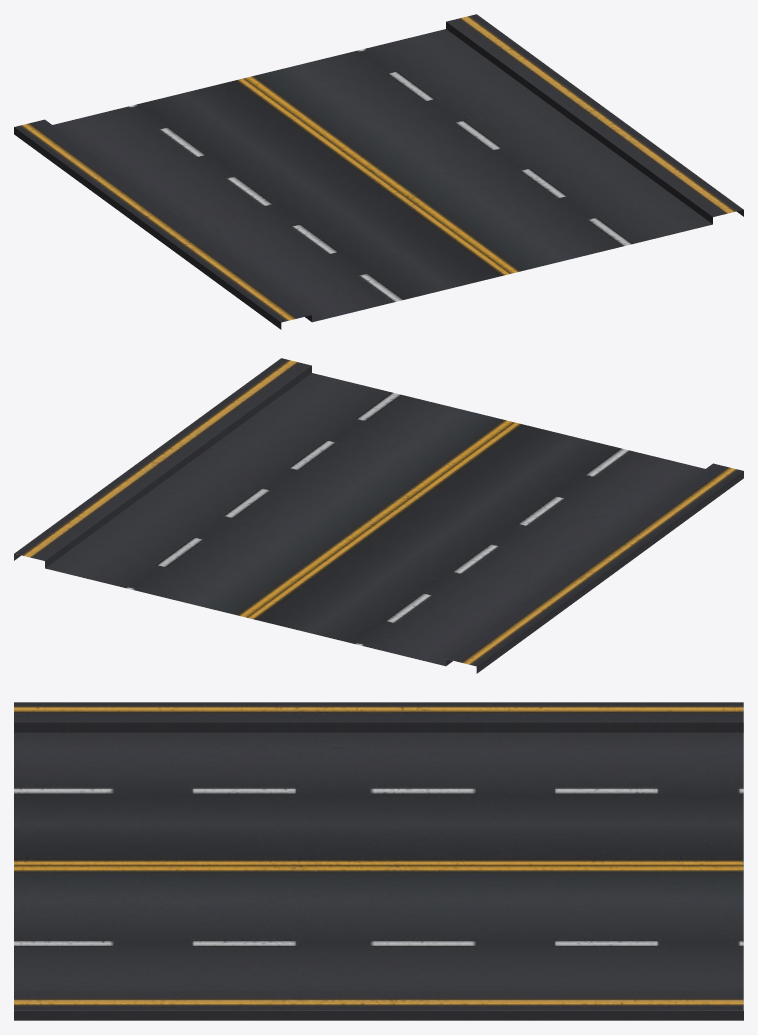
File: Road_Connection_Piece2.fbx
3 renders of one model, top to bottom at view 1: azimuth 30°, elevation 25°; view 2: azimuth 150°, elevation 25°; view 3: azimuth 270°, elevation 25°, orthographic. The views are drawn at different scales.
Parts seen in each view (by area): view 1: Plane.006; view 2: Plane.006; view 3: Plane.006.
Boxes of the visible parts, bbox=[...] form: Plane.006: bbox=[14, 14, 743, 329]; Plane.006: bbox=[14, 358, 743, 673]; Plane.006: bbox=[14, 702, 743, 1020].
Bounding box in the file's own units: 1400 × 21.19 × 1400.
